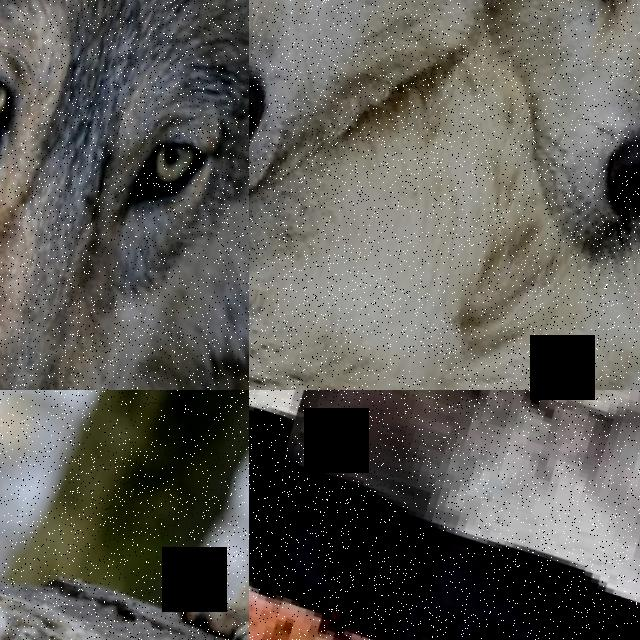dog: (249, 390, 640, 632)
wolf: (249, 0, 640, 390), (0, 0, 249, 390), (358, 0, 640, 281), (0, 390, 249, 640), (63, 390, 249, 640)
